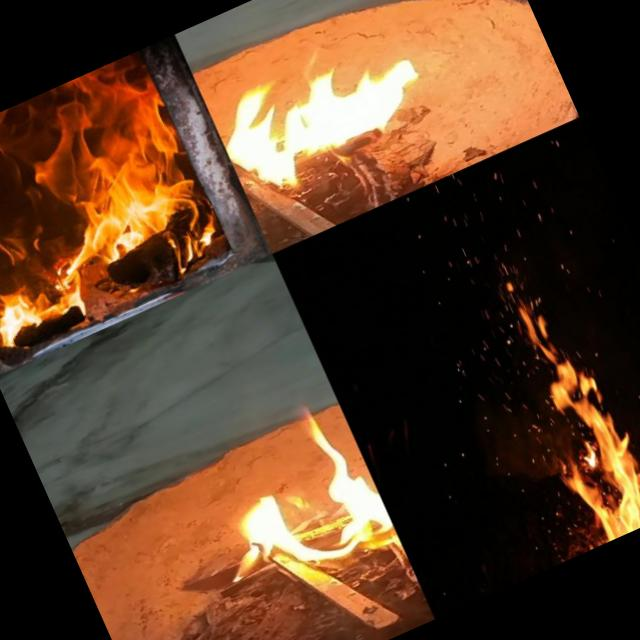fire: (0, 50, 232, 364), (457, 225, 640, 555), (180, 391, 407, 624), (204, 12, 453, 214)
